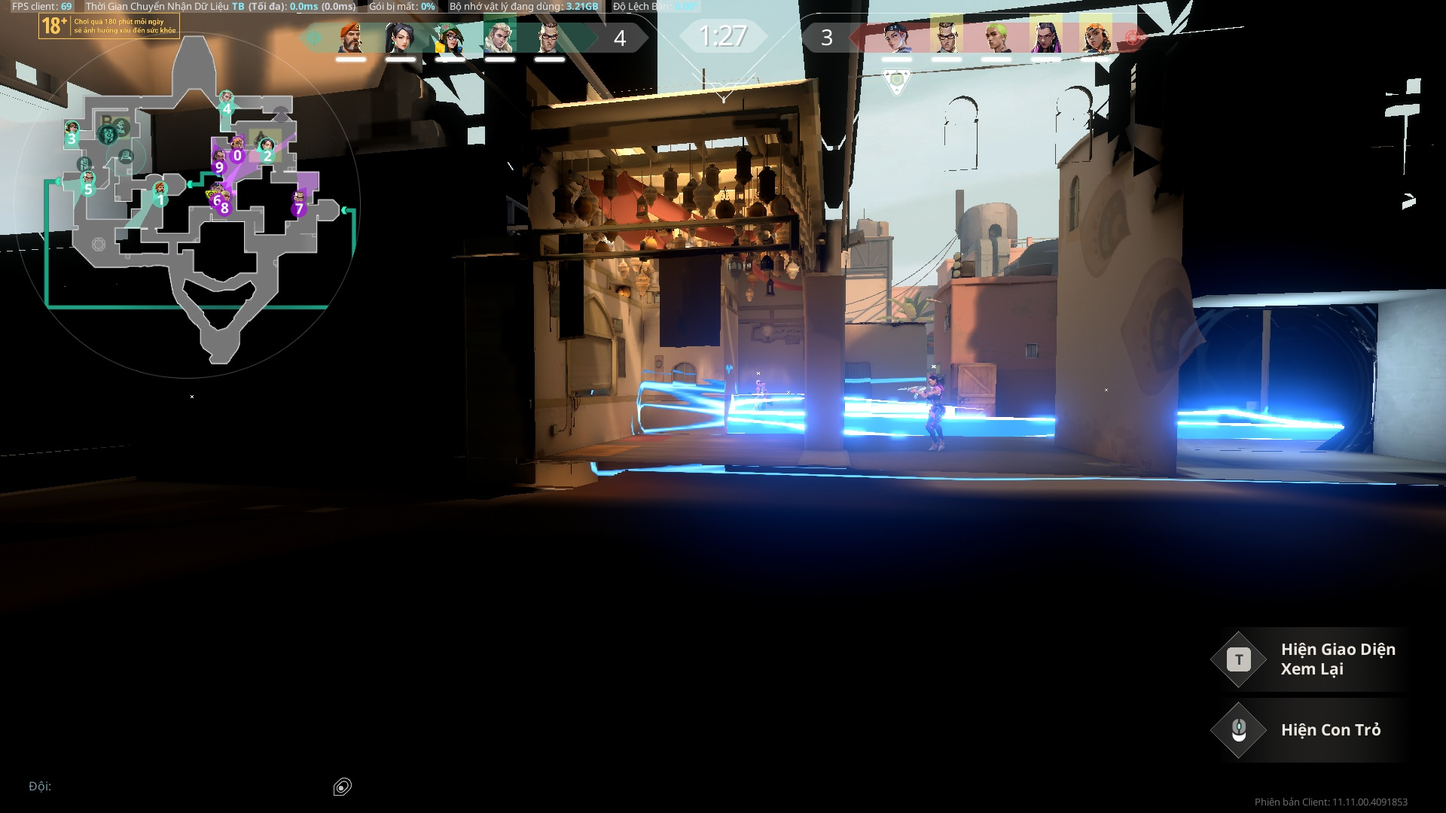body: (927, 383, 945, 406)
head: (927, 374, 941, 385)
